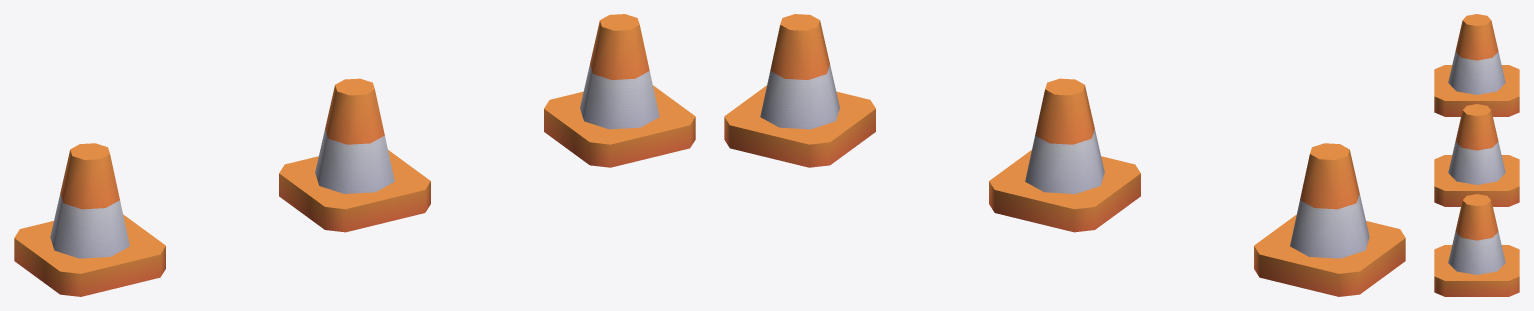
Rendered from track-end.glb.
3 renders of one model, left to right at view 1: azimuth 30°, elevation 25°; view 2: azimuth 150°, elevation 25°; view 3: azimuth 270°, elevation 25°, orthographic. The views are drawn at different scales.
Visible parts, largest first — view 1: item-cone.002; view 2: item-cone.002; view 3: item-cone.002.
Boxes of the visible parts, <box> form: item-cone.002: <box>14,14,695,296</box>; item-cone.002: <box>724,14,1405,296</box>; item-cone.002: <box>1434,14,1519,296</box>.
Size of the model in its own units: 1.44 by 0.2452 by 0.24.
1 material, 1 textured.
